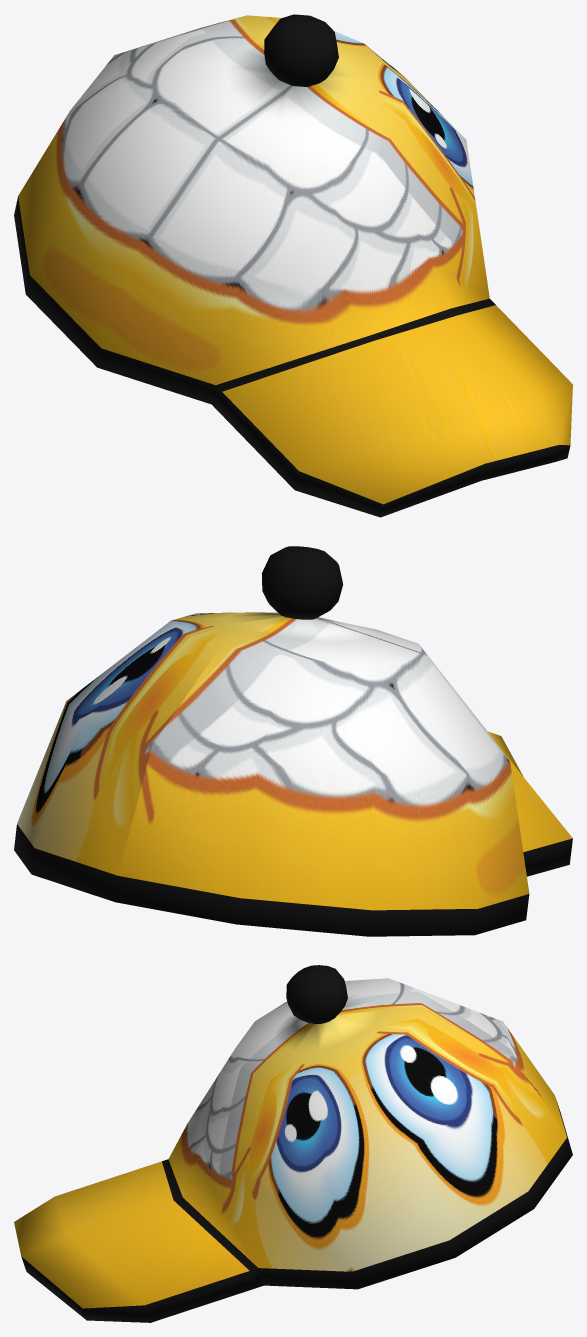
The model's file is CAP_01.FBX.
3 renders of one model, top to bottom at view 1: azimuth 30°, elevation 25°; view 2: azimuth 150°, elevation 25°; view 3: azimuth 270°, elevation 25°, orthographic. The views are drawn at different scales.
Parts seen in each view (by area): view 1: Sphere001; view 2: Sphere001; view 3: Sphere001.
Boxes of the visible parts, left/top/right/bottom form: Sphere001: left=14, top=14, right=572, bottom=517; Sphere001: left=14, top=546, right=572, bottom=936; Sphere001: left=14, top=965, right=572, bottom=1322.
Size of the model in its own units: 131 by 111 by 186.
2 materials, 1 textured.
